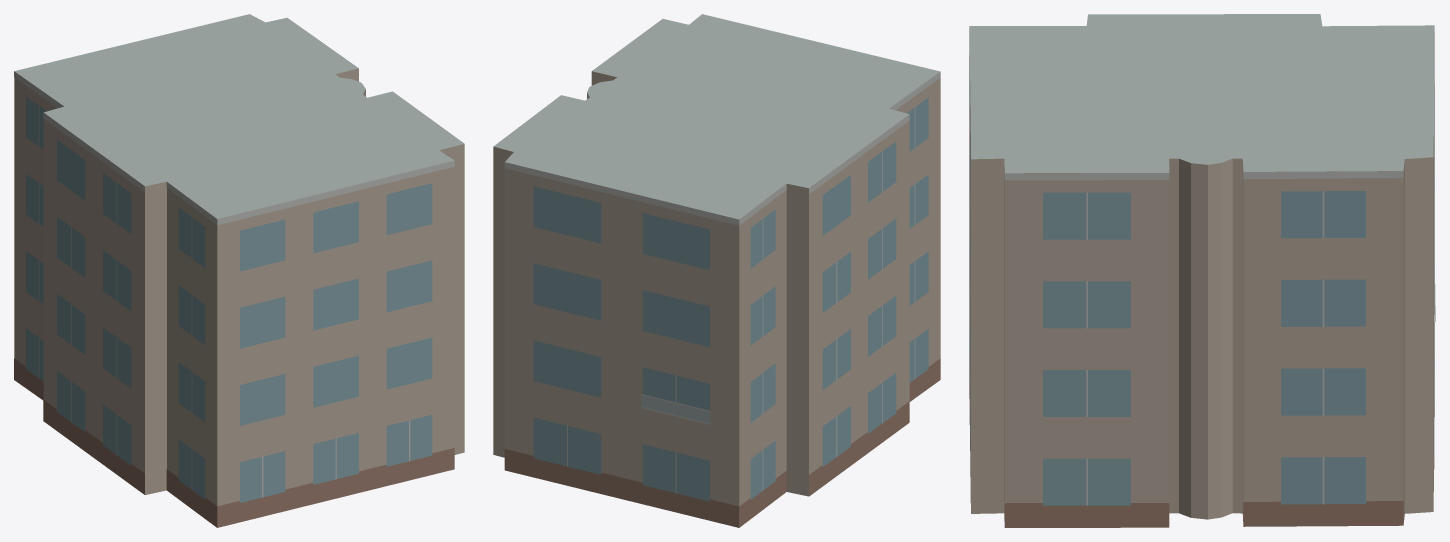
Rendered from survey-upis-32901240.glb.
3 renders of one model, left to right at view 1: azimuth 30°, elevation 25°; view 2: azimuth 150°, elevation 25°; view 3: azimuth 270°, elevation 25°, orthographic. The views are drawn at different scales.
Visible parts, largest first — view 1: survey-upis-32901240.tmp; view 2: survey-upis-32901240.tmp; view 3: survey-upis-32901240.tmp.
Part boxes in pixels (x1,y1,x2,y2): survey-upis-32901240.tmp: (14,14,464,527); survey-upis-32901240.tmp: (493,14,940,527); survey-upis-32901240.tmp: (969,14,1435,527).
Size of the model in its own units: 11.65 by 12.1 by 14.42.
